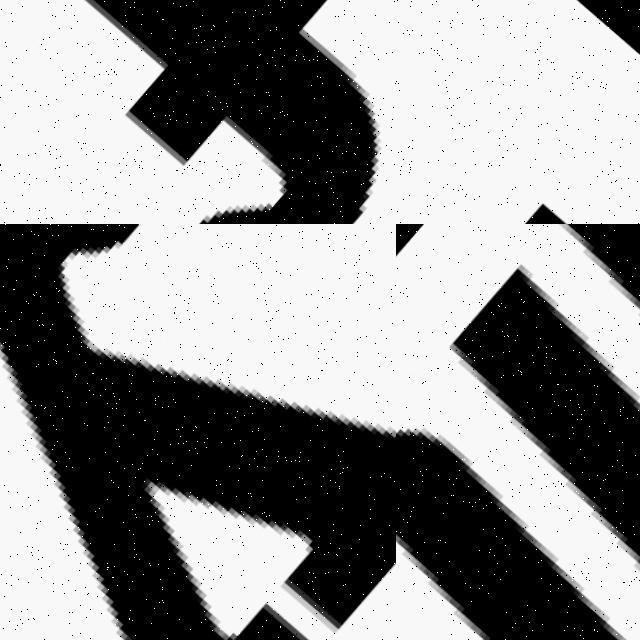7: (396, 0, 640, 224)
F: (0, 0, 396, 224)
M: (396, 224, 640, 640)
Y: (0, 224, 396, 640)
